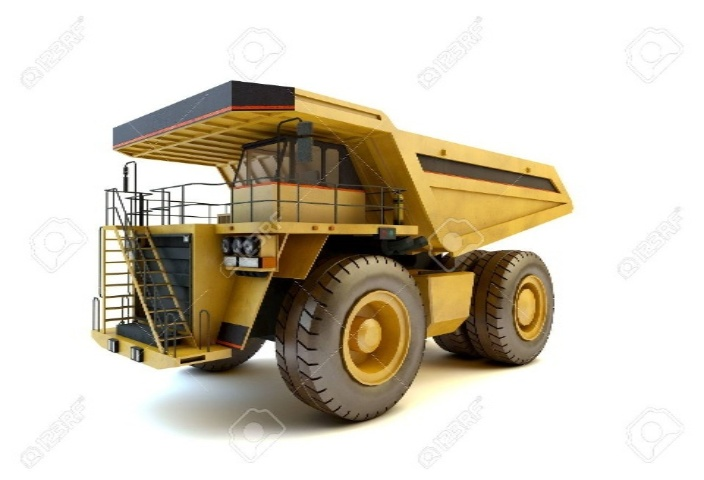industrial: (85, 79, 581, 415)
